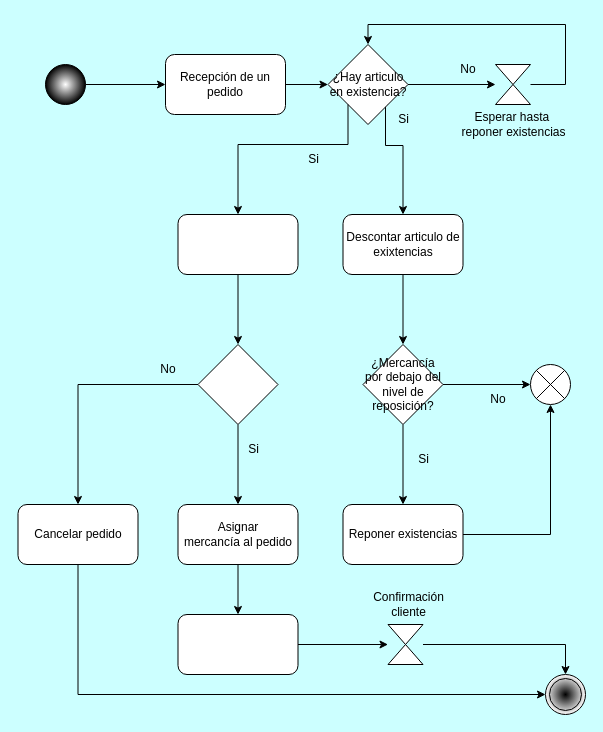
This 603x732 diagram has some shape labels left out. Here are the shapes that lost their labels. From the top down, the centre of each, then its label:
[237,244]: Revisar pago
[237,384]: ¿El pago es correcto?
[237,644]: Despachar pedido a cliente
